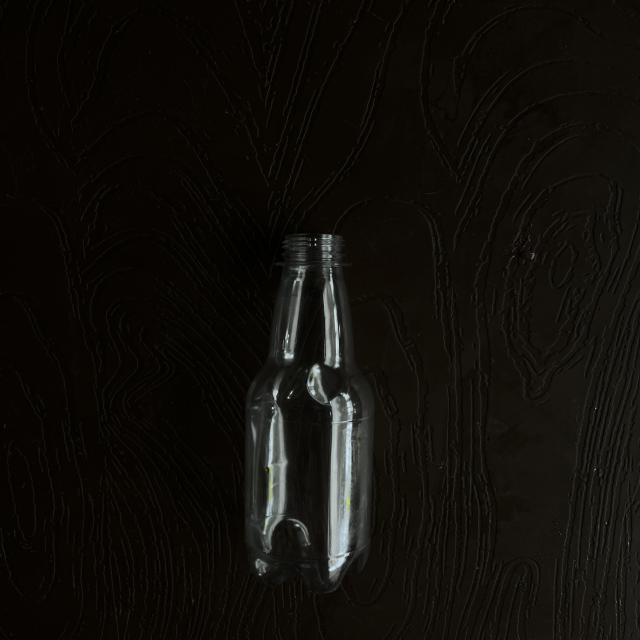PET_ClearBottle: (237, 230, 392, 592)
